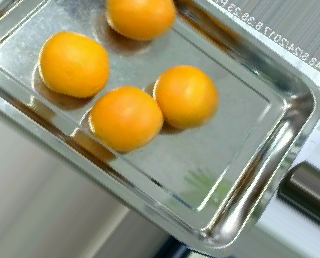Orange: (88, 84, 163, 153), (37, 29, 108, 98), (153, 65, 218, 130)
